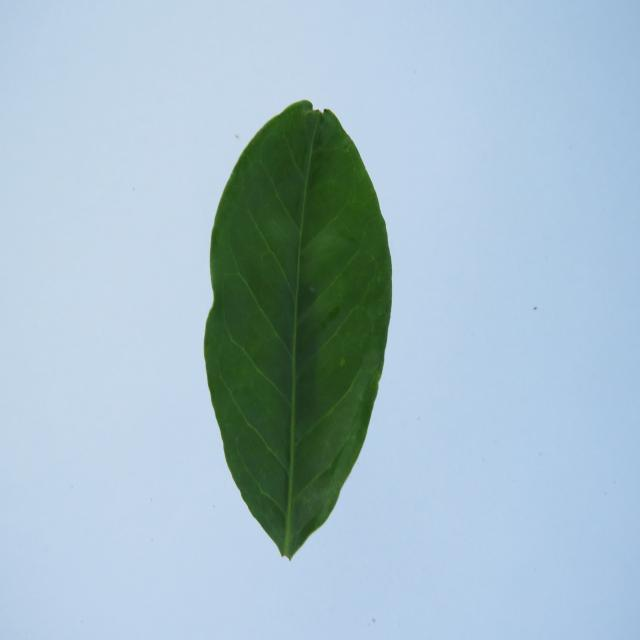DeficienciaNutricional-Boro: (204, 100, 391, 558)
